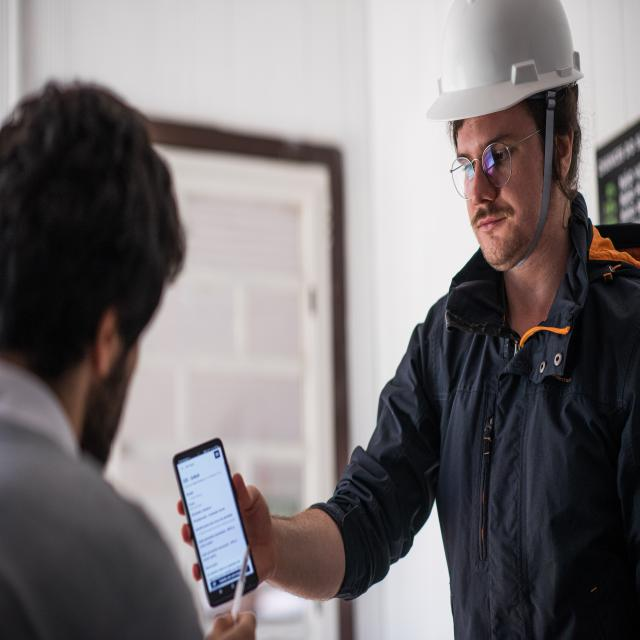capacete: (423, 0, 588, 128)
